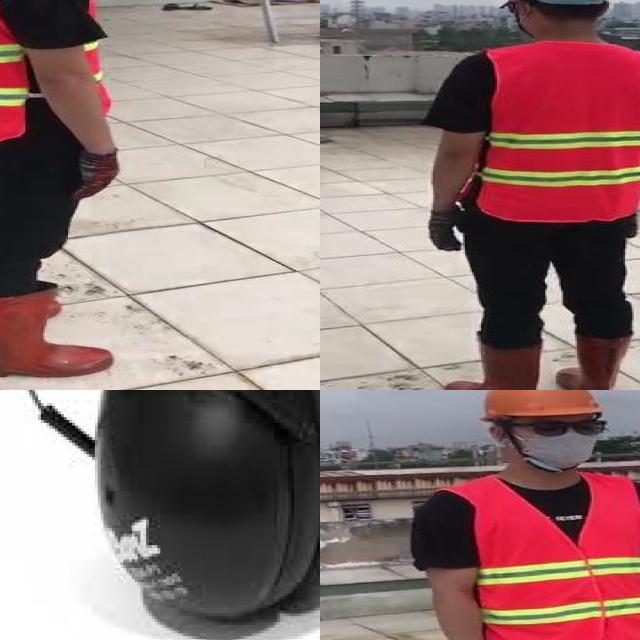Ear-protection: (89, 390, 296, 622)
boots: (0, 286, 116, 377), (0, 251, 66, 338), (443, 341, 543, 390), (553, 333, 630, 390)
face_mask: (510, 412, 603, 474)
glasses: (514, 414, 610, 443)
hand_glove: (73, 151, 118, 200), (426, 206, 467, 250)
head_helmet: (474, 390, 604, 422)
person: (409, 0, 640, 390), (407, 390, 640, 640), (0, 0, 140, 376)
vest: (472, 471, 640, 640), (484, 42, 640, 221), (0, 0, 110, 145)
